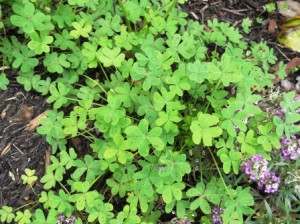oxalis: (17, 4, 292, 224)
